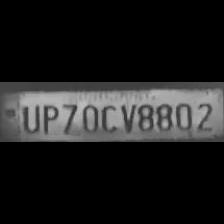0: (79, 101, 99, 133), (172, 99, 192, 130)
2: (194, 100, 214, 132)
7: (58, 100, 78, 134)
8: (134, 100, 154, 132), (154, 99, 172, 130)
C: (98, 101, 118, 133)
P: (38, 101, 58, 135)
U: (19, 102, 40, 134)
V: (117, 101, 135, 133)
